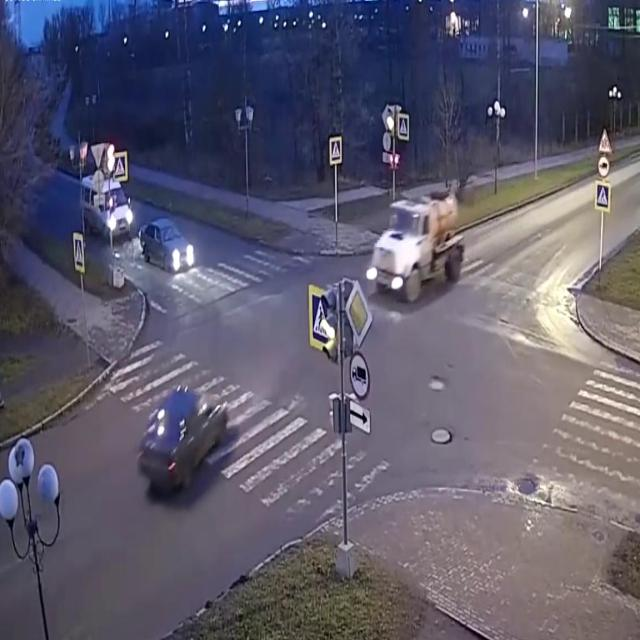non_accident: (77, 158, 203, 280)
